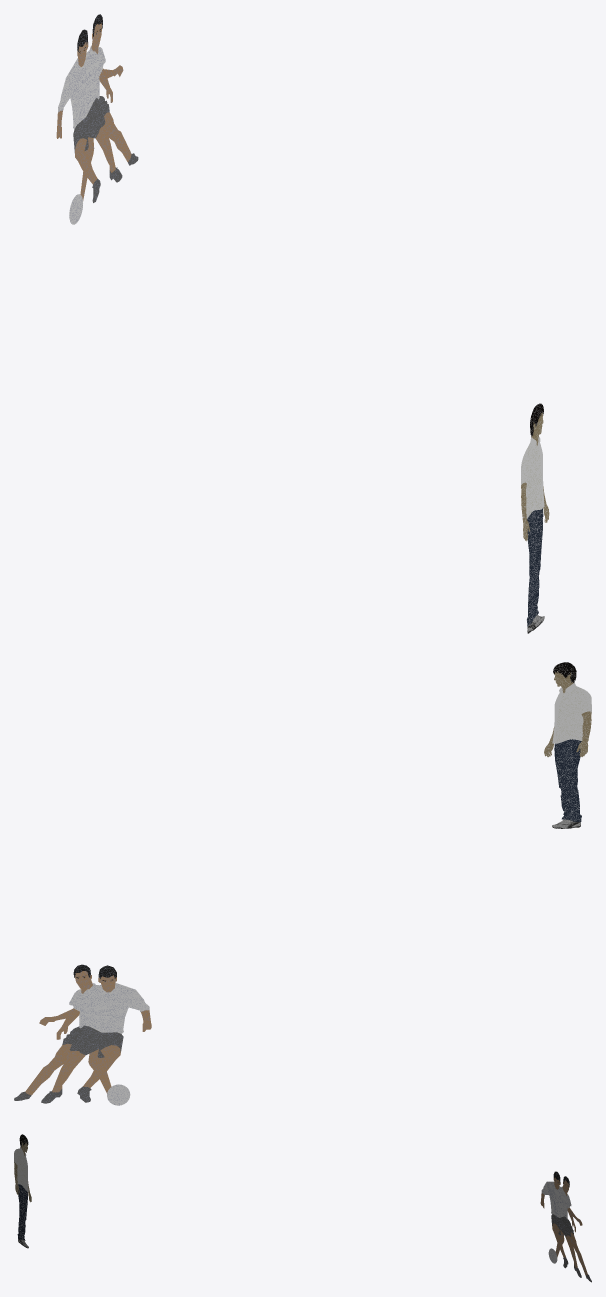
3 renders of one model, top to bottom at view 1: azimuth 30°, elevation 25°; view 2: azimuth 150°, elevation 25°; view 3: azimuth 270°, elevation 25°, orthographic. The views are drawn at different scales.
Parts seen in each view (by area): view 1: _2d_soccer_players (×3), Sang (×2); view 2: _2d_soccer_players (×4), Sang (×2); view 3: _2d_soccer_players (×4), Sang (×2).
Part boxes in pixels (<box>): _2d_soccer_players (×3): <box>58,47,131,172</box>; Sang (×2): <box>521,443,543,626</box>; _2d_soccer_players (×4): <box>25,983,149,1095</box>; Sang (×2): <box>554,686,591,822</box>; _2d_soccer_players (×4): <box>541,1181,587,1274</box>; Sang (×2): <box>14,1148,27,1240</box>.
Size of the model in its own units: 63.6 by 326 by 69.24.
